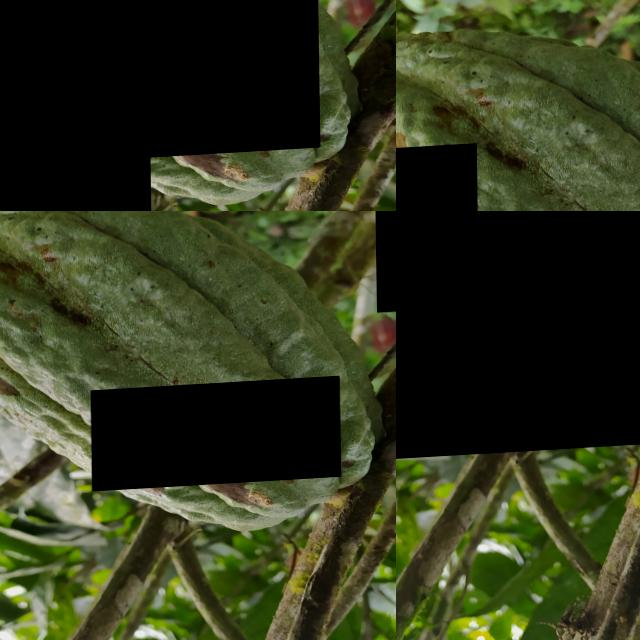Fitoftora: (90, 382, 339, 494)
Monilia: (98, 211, 231, 367)
Sana: (396, 211, 640, 467), (119, 0, 318, 162), (0, 0, 151, 211), (0, 250, 81, 489), (38, 211, 143, 394)
